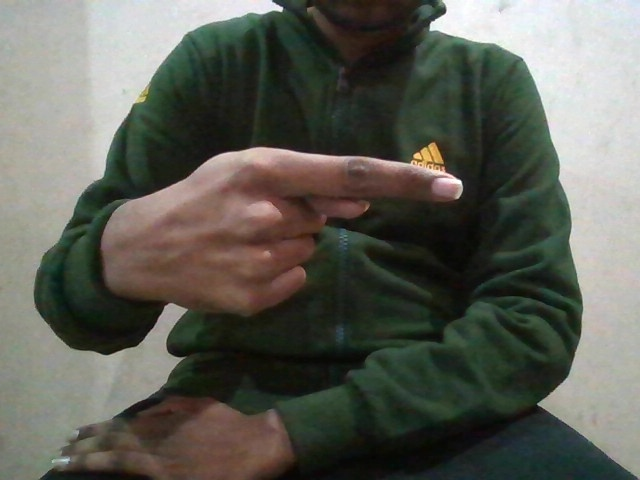G: (109, 144, 488, 319)
